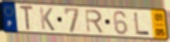6: (112, 9, 129, 36)
7: (63, 6, 81, 34)
K: (39, 6, 57, 32)
L: (133, 11, 150, 37)
R: (84, 9, 105, 34)
T: (18, 5, 35, 32)
